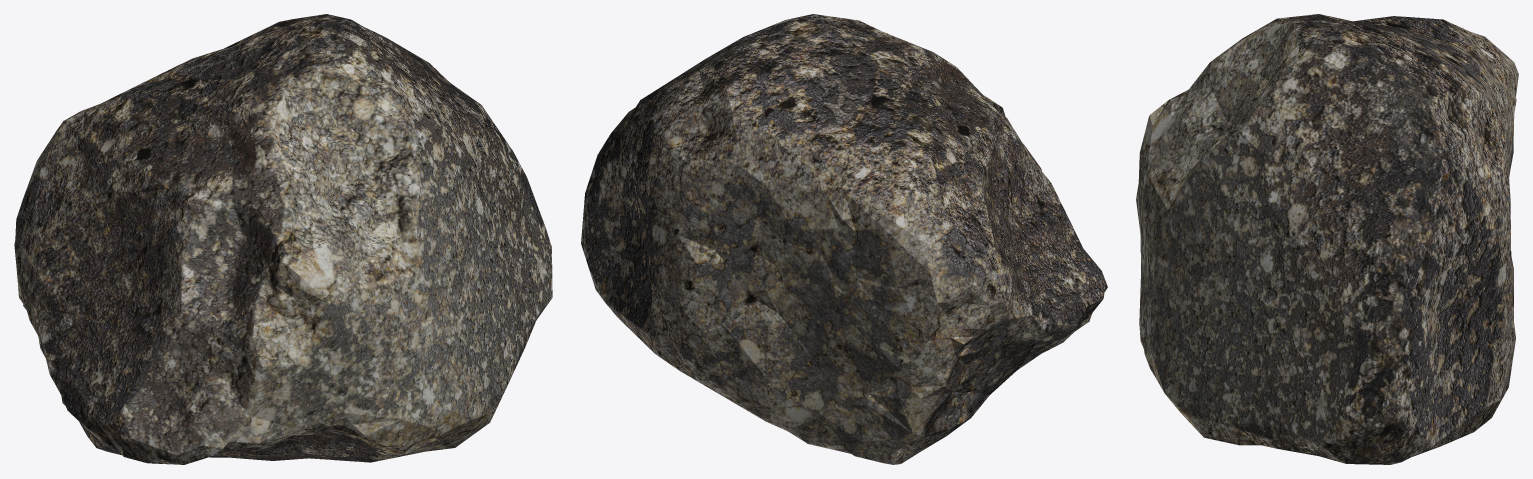
The model's file is GRO17063-0.fbx.
The picture shows the model from 3 angles, left to right: view 1: azimuth 30°, elevation 25°; view 2: azimuth 150°, elevation 25°; view 3: azimuth 270°, elevation 25°; orthographic projection. The views are drawn at different scales.
Parts seen in each view (by area): view 1: GRO17063-0; view 2: GRO17063-0; view 3: GRO17063-0.
Boxes of the visible parts, <box> form: GRO17063-0: <box>14,14,552,464</box>; GRO17063-0: <box>581,14,1107,464</box>; GRO17063-0: <box>1136,14,1518,464</box>.
Bounding box in the file's own units: 114 × 88.53 × 74.11.
